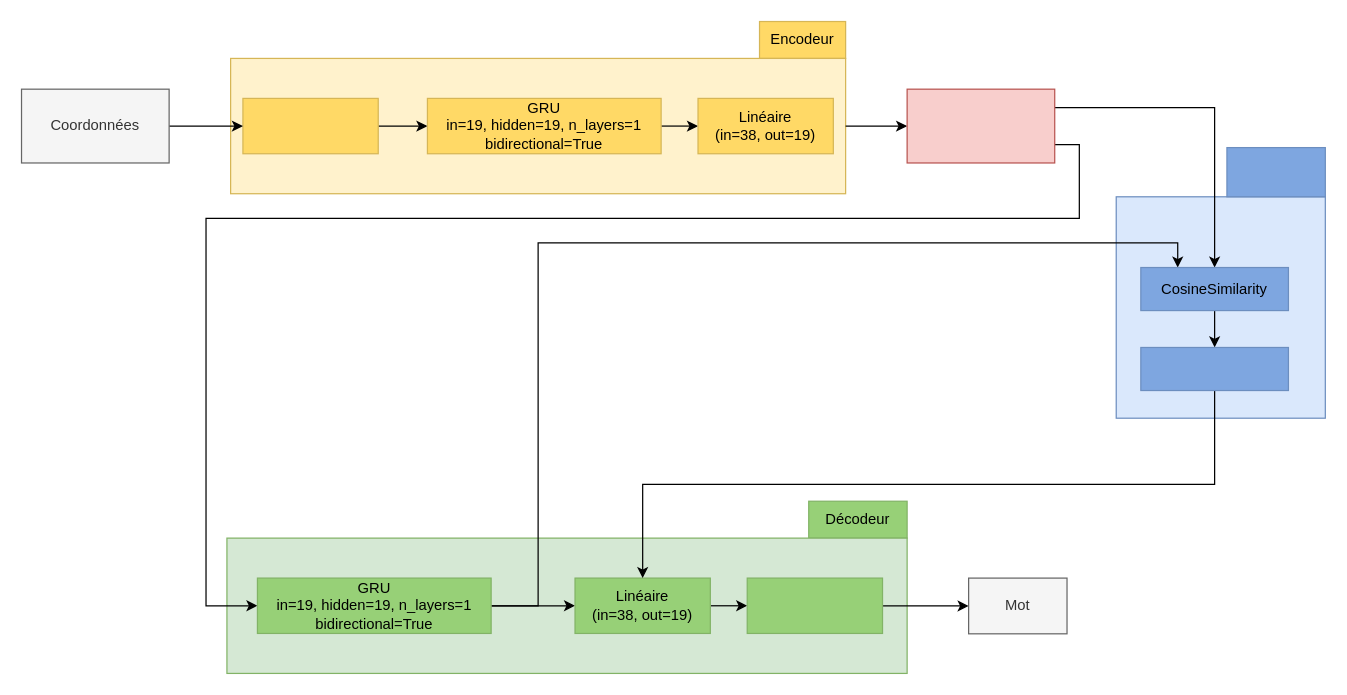
Some shapes in this 1347 by 695 pixel diagram are drawn without their labels. The shapes that lost their labels are listed below. From the top down, each one's centre as x and y in pixels, then its label:
At point (310, 125): "Linéaire in=3, out=19".
At point (980, 125): "Embedding num_embedding=27 embedding_dim=19".
At point (1275, 171): "Attention".
At point (1214, 368): "Softmax".
At point (814, 605): "Linéaire (in=19, out=27)".
